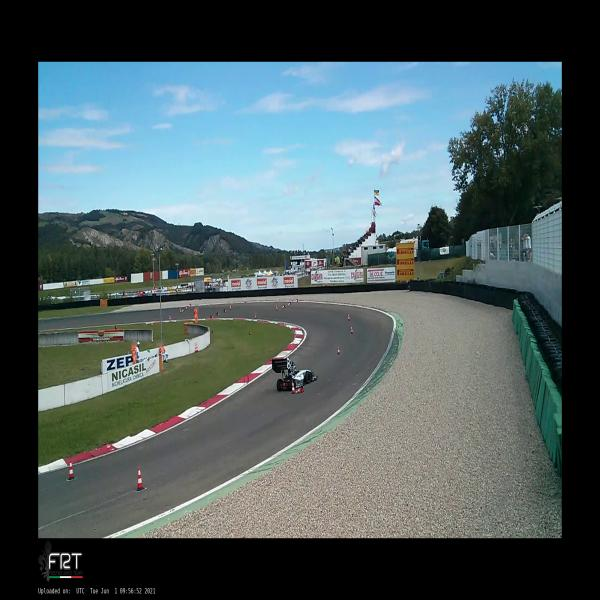large_orange_cone: (135, 466, 145, 490), (67, 461, 75, 480), (295, 386, 304, 393), (291, 380, 295, 394), (194, 343, 198, 352), (337, 345, 340, 355), (350, 325, 353, 335), (196, 343, 199, 352), (347, 313, 350, 321), (286, 302, 292, 306), (188, 302, 192, 308), (254, 312, 257, 319), (209, 315, 214, 319), (282, 304, 286, 309), (179, 307, 182, 313), (276, 303, 278, 312), (216, 312, 220, 316), (223, 309, 227, 313), (169, 314, 171, 320), (296, 298, 298, 304), (185, 306, 189, 309), (182, 308, 184, 312), (230, 304, 231, 310)
